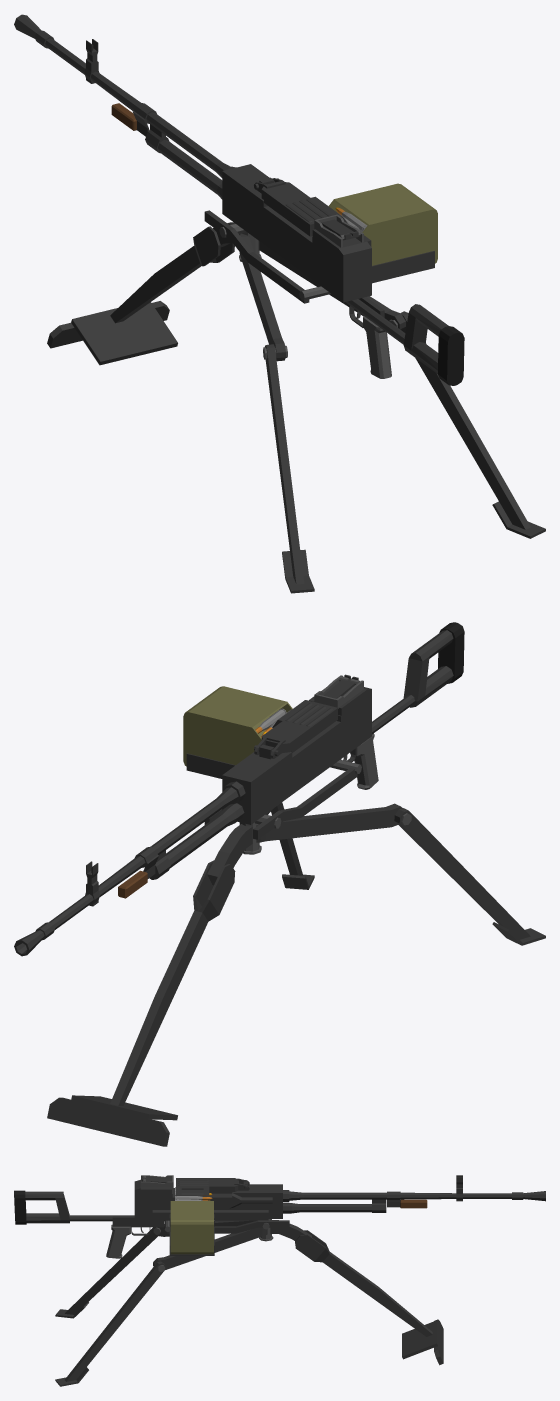
3 renders of one model, top to bottom at view 1: azimuth 30°, elevation 25°; view 2: azimuth 150°, elevation 25°; view 3: azimuth 270°, elevation 25°, orthographic. The views are drawn at different scales.
Visible parts, largest first — view 1: 14_5, Magazin, Slide; view 2: 14_5, Magazin, Slide; view 3: 14_5, Magazin, Slide.
Boxes of the visible parts, <box> form: 14_5: <box>14,14,545,593</box>; Magazin: <box>329,183,437,265</box>; Slide: <box>254,178,347,236</box>; 14_5: <box>14,622,545,1146</box>; Magazin: <box>183,686,292,766</box>; Slide: <box>254,700,337,758</box>; 14_5: <box>14,1175,545,1386</box>; Magazin: <box>170,1187,213,1254</box>; Slide: <box>176,1178,249,1195</box>.
Bounding box in the file's own units: 56.39 × 59.59 × 167.
1 material, 1 textured.
